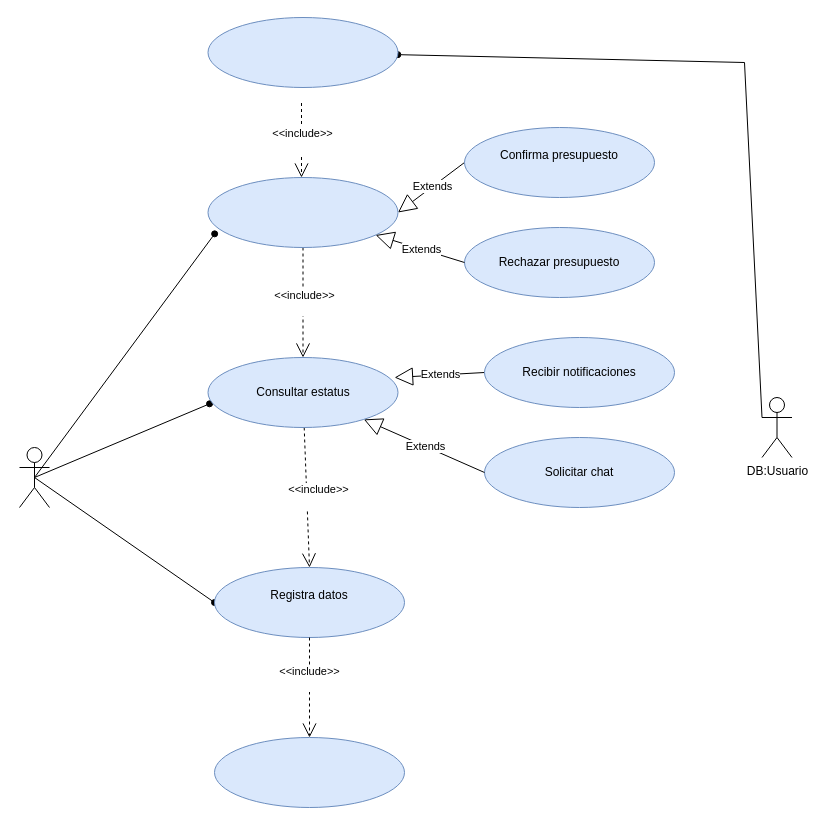
This 825x825 diagram has some shape labels left out. Here are the shapes that lost their labels. From the top down, the centre of each, then its label:
At point (302, 52): "Actualizar estatus".
At point (302, 212): "Hacer peticion".
At point (34, 477): "cliente".
At point (309, 772): "Ingresa numero de recibo".
